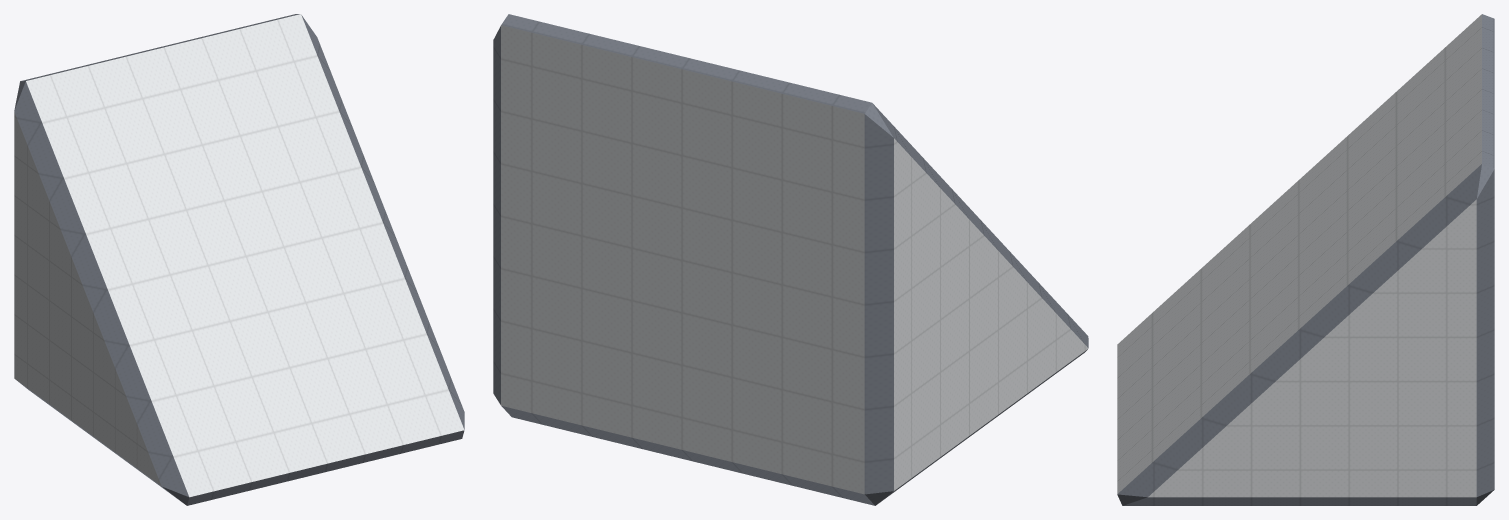
File: R4B_Wedge_LOD1.glb
3 renders of one model, left to right at view 1: azimuth 30°, elevation 25°; view 2: azimuth 150°, elevation 25°; view 3: azimuth 270°, elevation 25°, orthographic. The views are drawn at different scales.
Visible parts, largest first — view 1: R4B_Wedge_LOD1; view 2: R4B_Wedge_LOD1; view 3: R4B_Wedge_LOD1.
Boxes of the visible parts, bbox=[...] form: R4B_Wedge_LOD1: bbox=[14, 14, 464, 505]; R4B_Wedge_LOD1: bbox=[493, 14, 1088, 505]; R4B_Wedge_LOD1: bbox=[1117, 14, 1494, 505].
Bounding box in the file's own units: 0.52 × 0.503 × 0.503.
2 materials, 2 textured.
